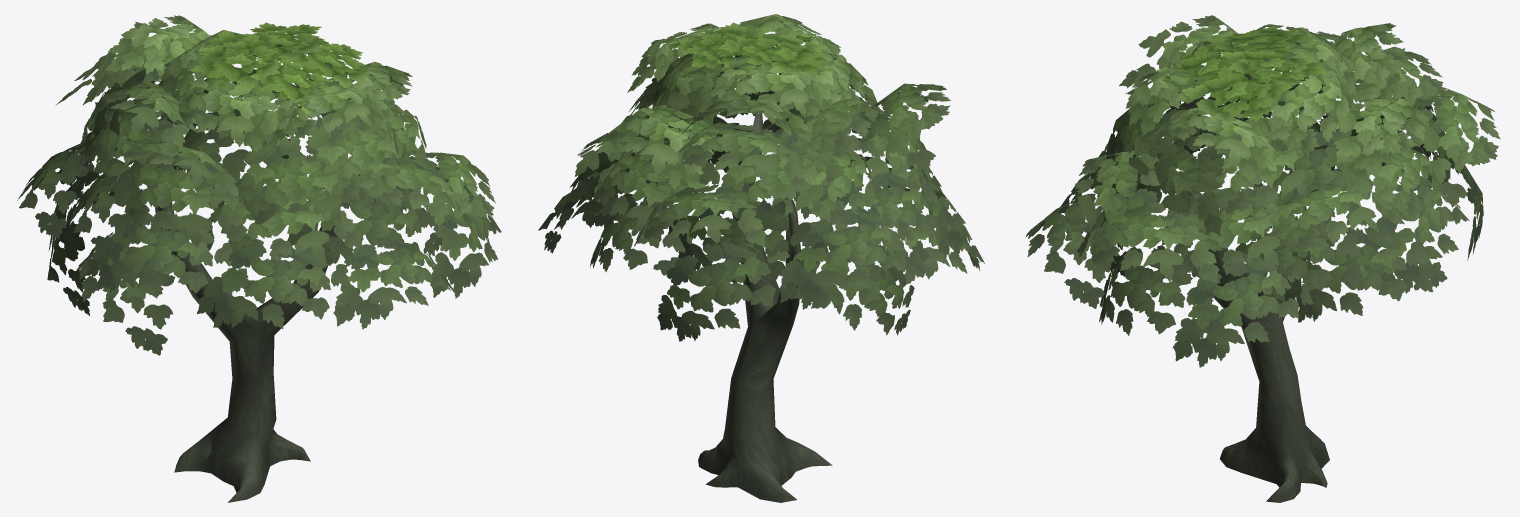
3 renders of one model, left to right at view 1: azimuth 30°, elevation 25°; view 2: azimuth 150°, elevation 25°; view 3: azimuth 270°, elevation 25°, orthographic.
Parts seen in each view (by area): view 1: 树5; view 2: 树5; view 3: 树5.
Boxes of the visible parts, bbox=[...] form: 树5: bbox=[17, 15, 501, 502]; 树5: bbox=[538, 14, 984, 502]; 树5: bbox=[1025, 15, 1500, 502].
Size of the model in its own units: 4.53 by 4.64 by 4.72.
4 materials, 4 textured.
